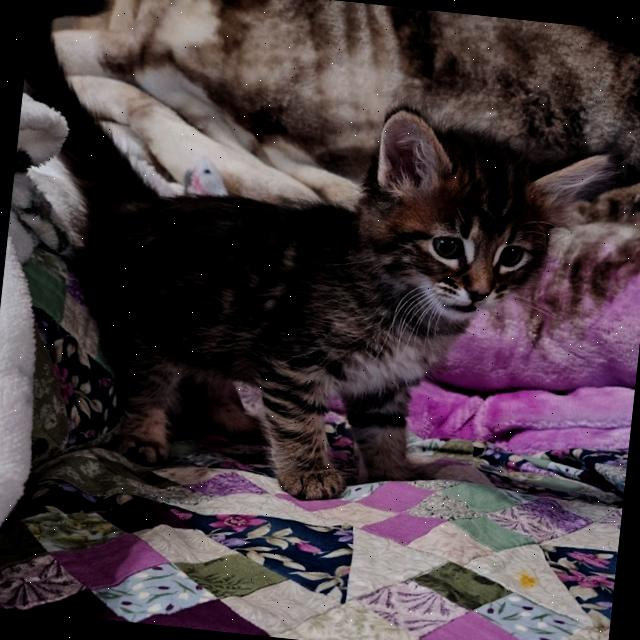american_shorthair_cat: (339, 95, 622, 344)
